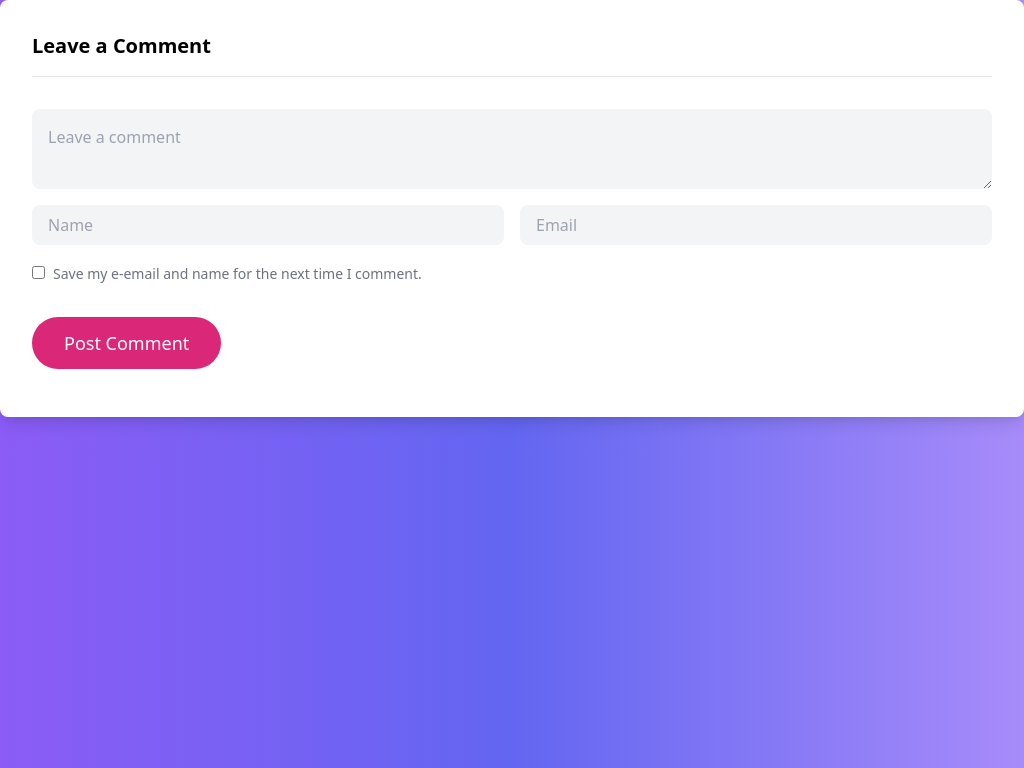
Comment Form Test › requires all fields
Click the button "Post Comment" at x=127, y=343, box [32, 317, 221, 369]
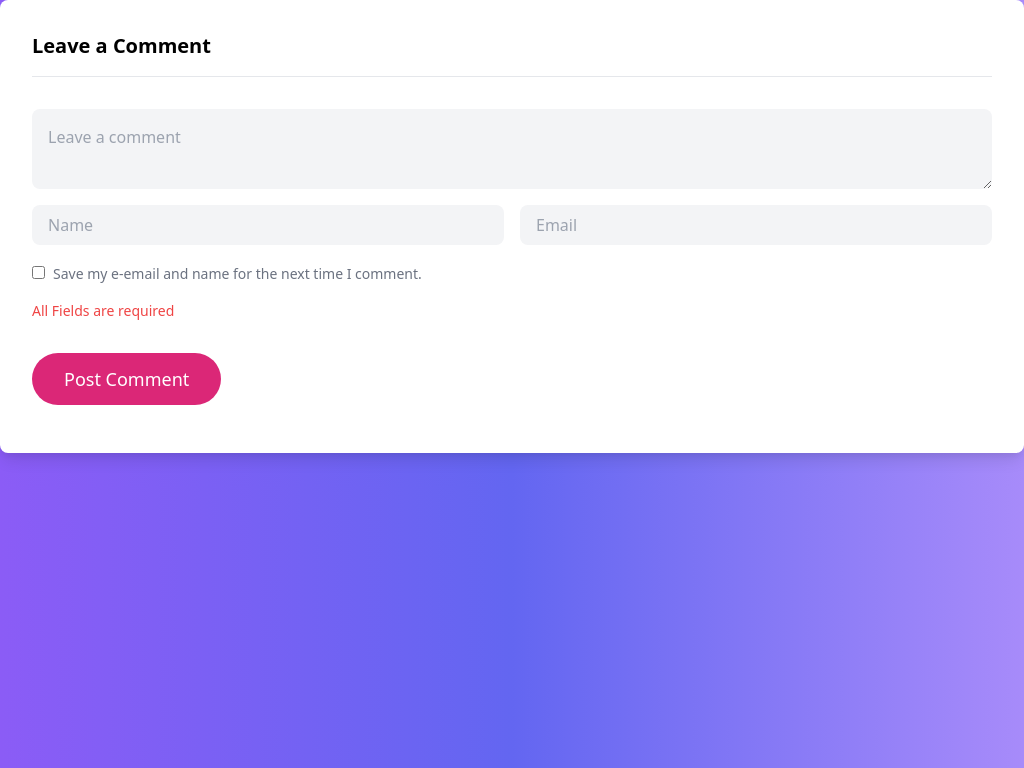
Result: the text "All Fields are required" is shown at [32, 301, 174, 320]
